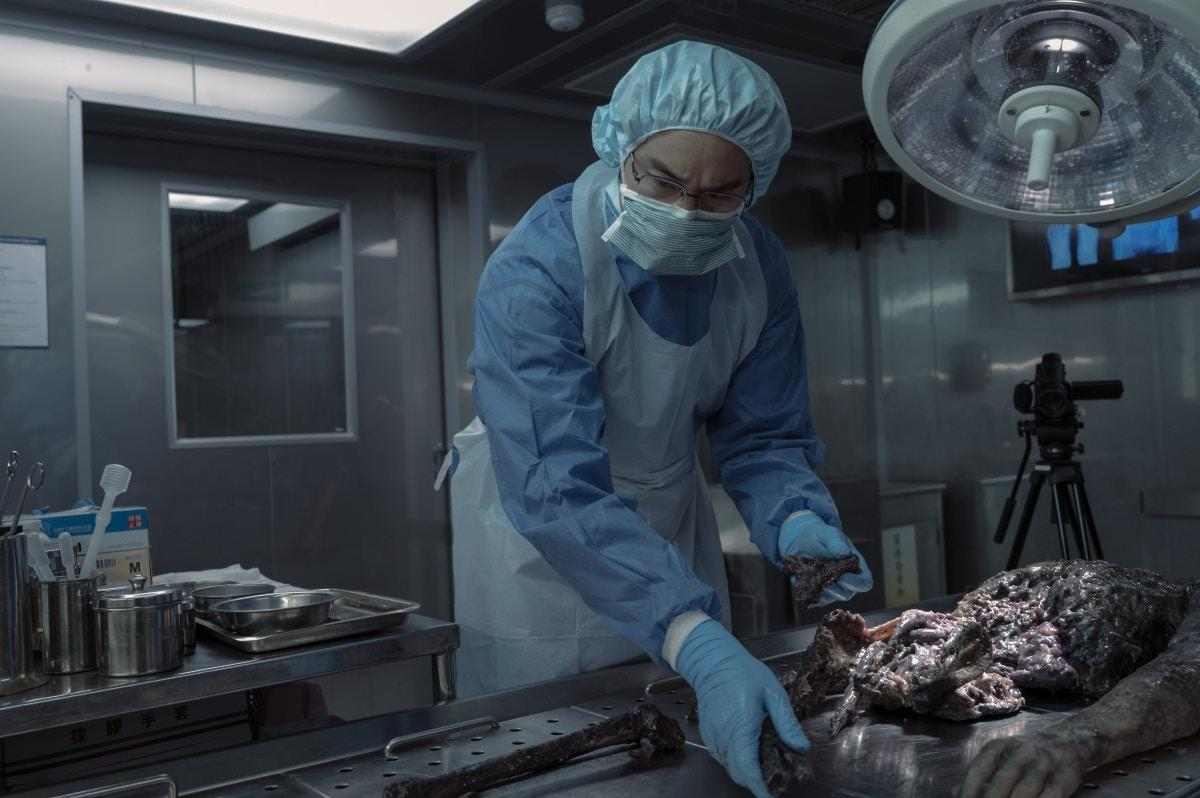OK: (620, 150, 748, 277)
